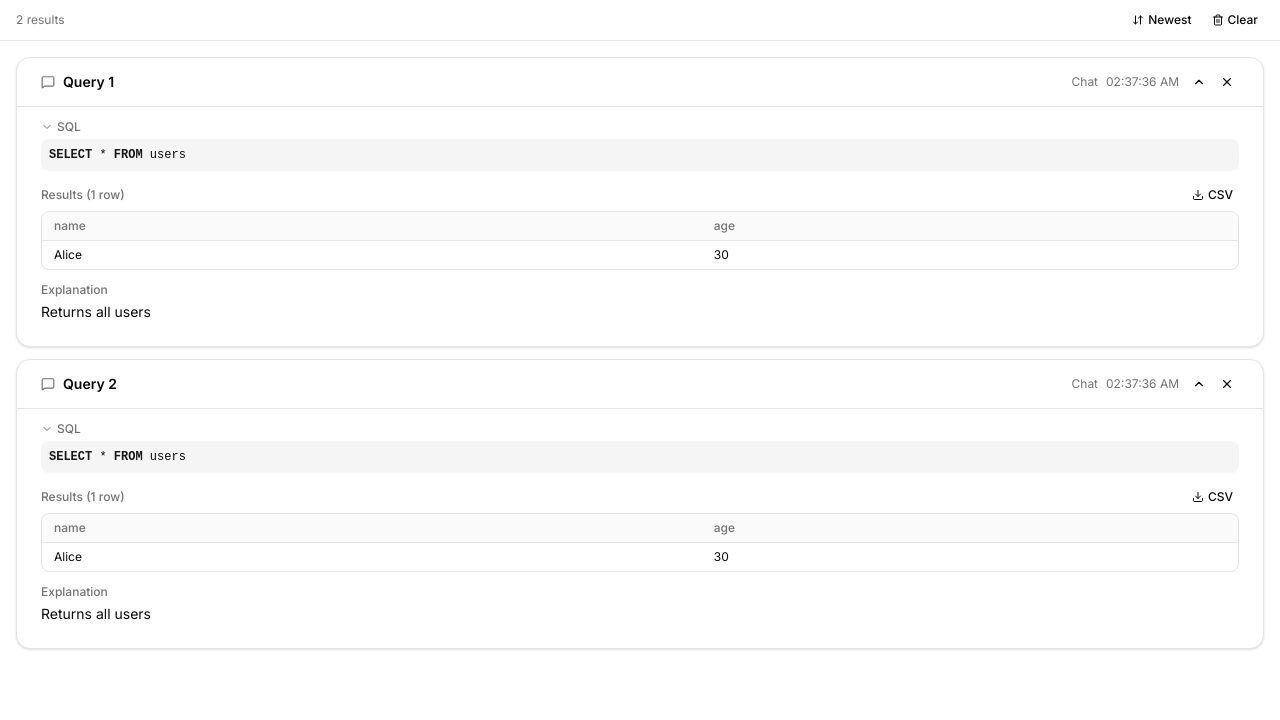
Test case: ResultsPanel › can remove individual result
The width and height of the screenshot is (1280, 720).
Click the button with test id "remove-result-r1" at (1227, 82), box top-left (1215, 70), bottom-right (1239, 94)
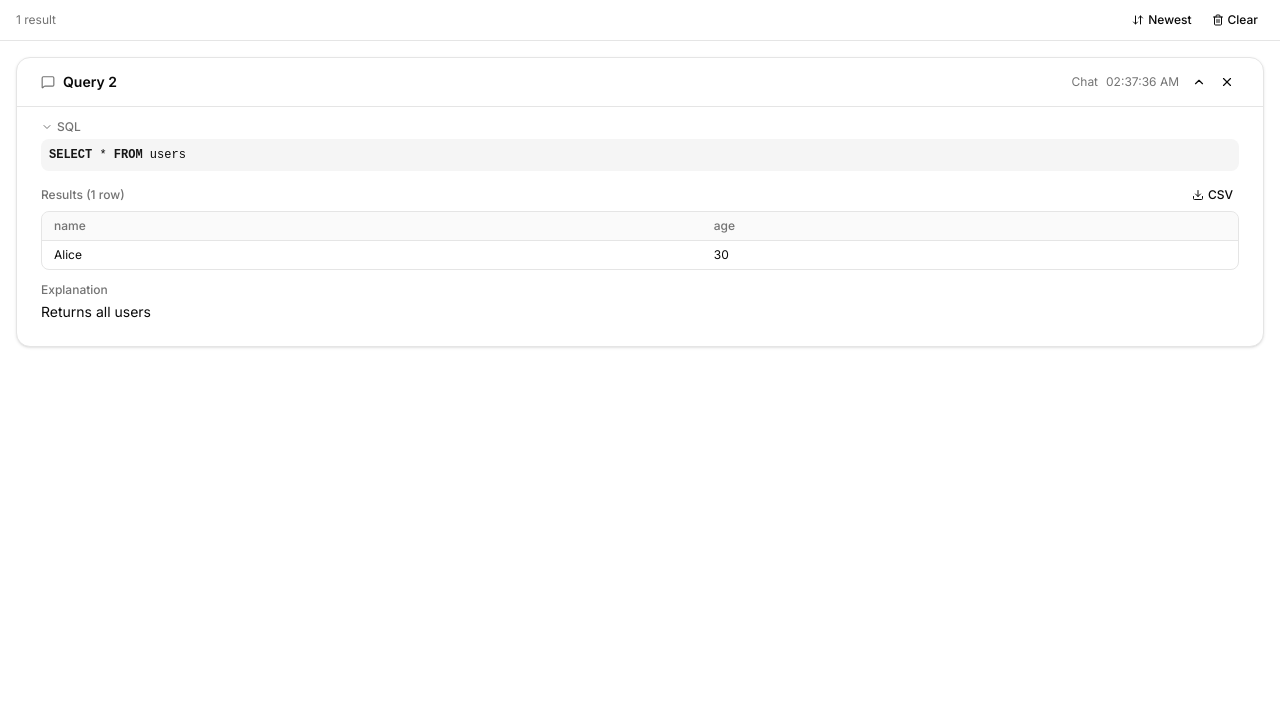
Expected: the element with test id "result-card-r2" is shown, top-left (16, 57), bottom-right (1264, 347)
Expected: the element with test id "result-card-r1" is gone
